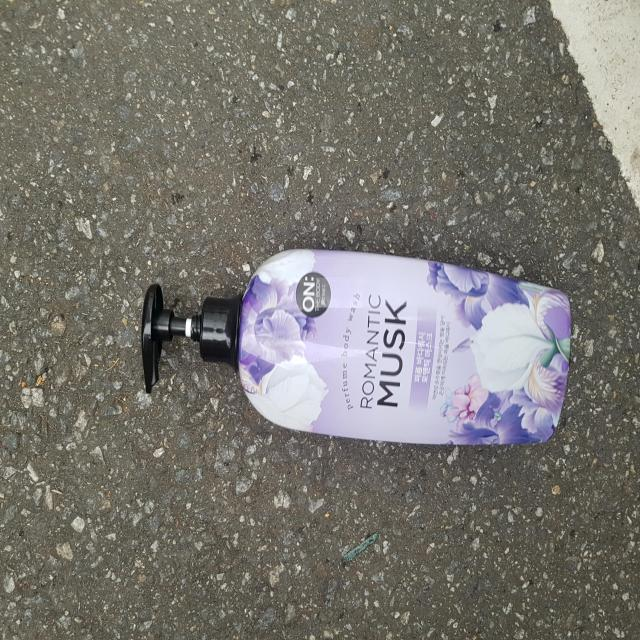bottle: (110, 235, 580, 430)
